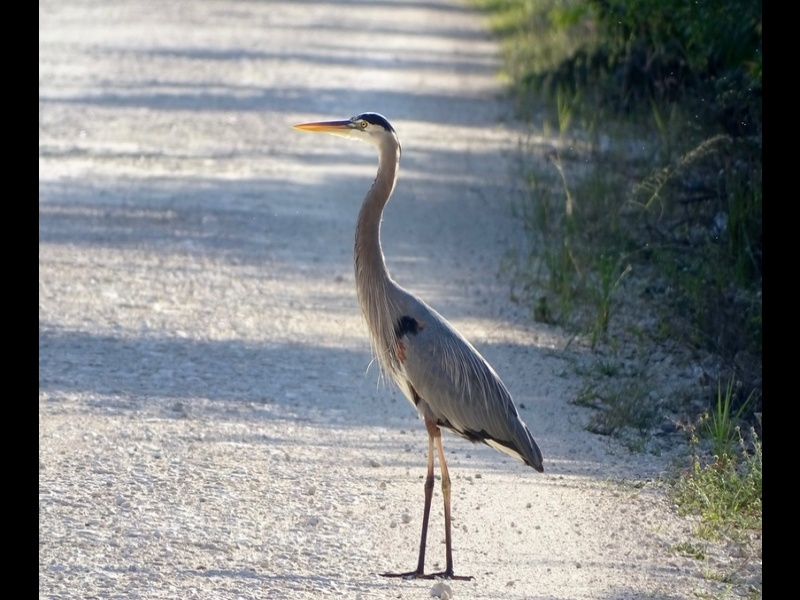heron: (294, 112, 556, 579)
